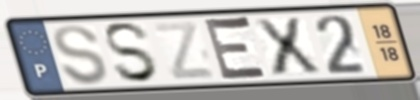2: (313, 13, 368, 77)
E: (201, 14, 272, 83)
S: (101, 20, 162, 85), (52, 23, 111, 88)
X: (250, 15, 325, 78)
Z: (150, 19, 220, 82)
